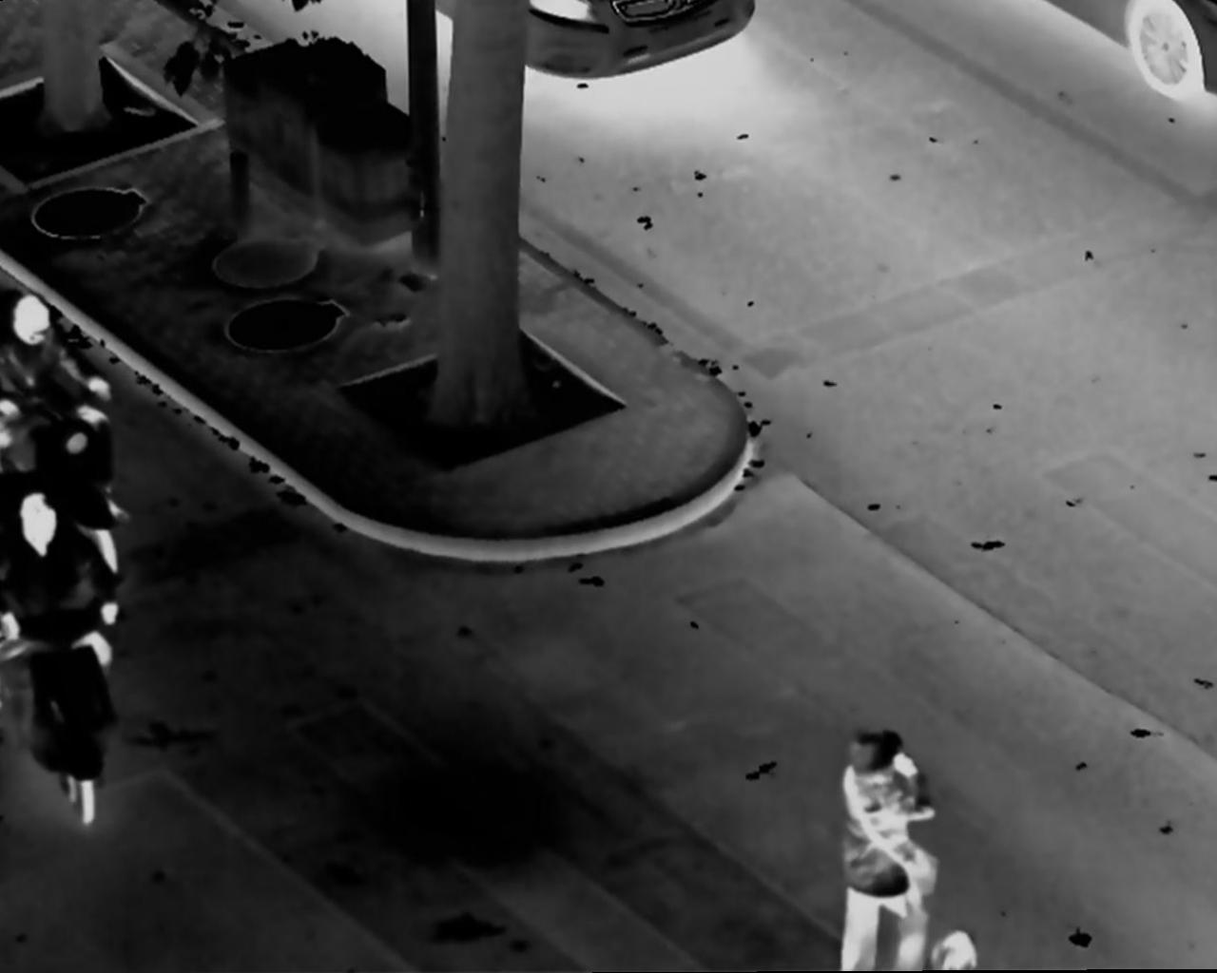person: (818, 715, 983, 973)
